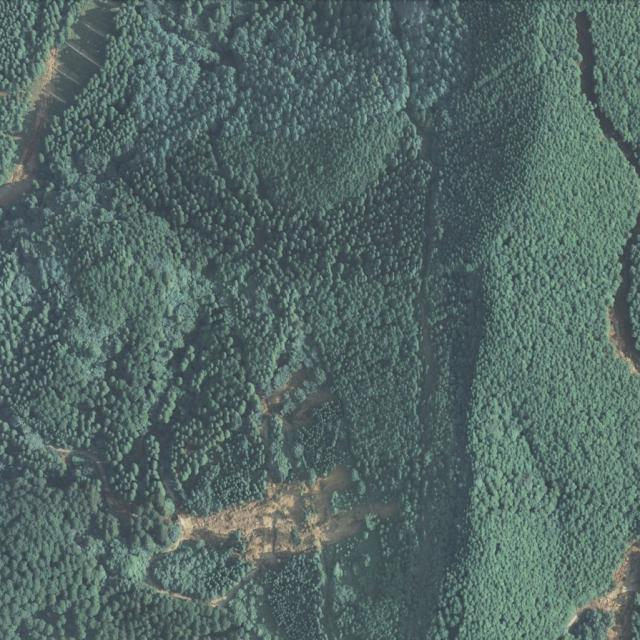landslide: (171, 467, 397, 568)
